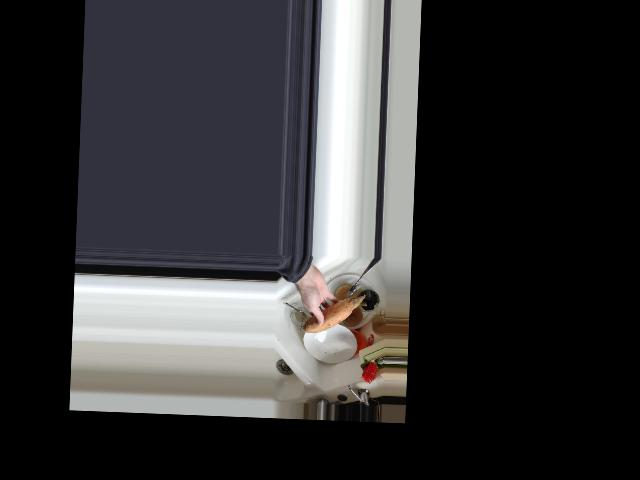sweet_potato: (302, 290, 364, 336)
